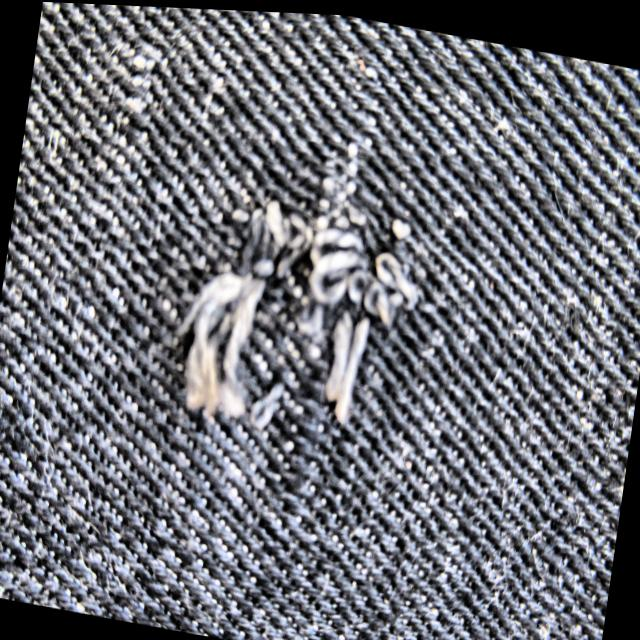Stitch: (68, 26, 490, 521)
